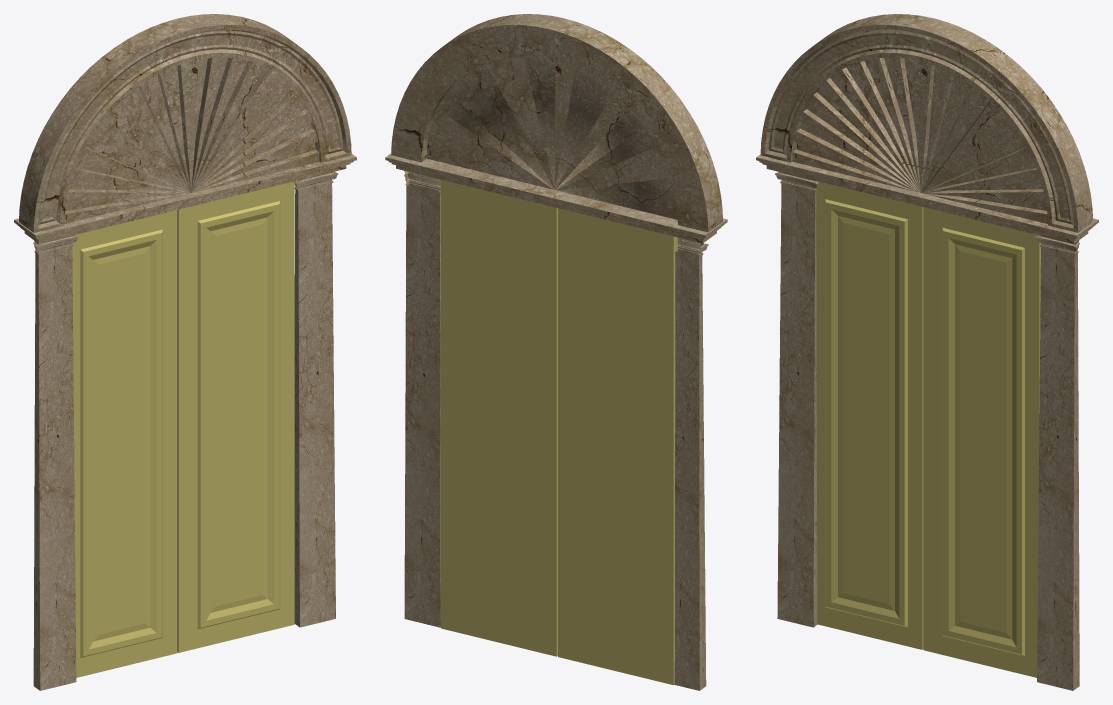
The model's file is entrance03.fbx.
3 views of the same model, side by side, from view 1: azimuth 30°, elevation 25°; view 2: azimuth 150°, elevation 25°; view 3: azimuth 330°, elevation 25° (orthographic).
Parts seen in each view (by area): view 1: gold_139, stone_column_882, gold_138, stone_column_880, stone_column_879, stone_column_881; view 2: gold_138, gold_139, stone_column_882, stone_column_879, stone_column_880, stone_column_881; view 3: gold_139, gold_138, stone_column_882, stone_column_879, stone_column_880, stone_column_881.
Part boxes in pixels (<box>): gold_139: <box>177,181,294,652</box>; stone_column_882: <box>19,14,351,232</box>; gold_138: <box>72,210,177,677</box>; stone_column_880: <box>33,235,78,690</box>; stone_column_879: <box>294,171,338,627</box>; stone_column_881: <box>14,154,356,243</box>; gold_138: <box>558,208,677,685</box>; gold_139: <box>441,179,557,656</box>; stone_column_882: <box>391,14,722,232</box>; stone_column_879: <box>404,170,440,627</box>; stone_column_880: <box>674,237,708,690</box>; stone_column_881: <box>385,153,727,243</box>; gold_139: <box>923,207,1040,677</box>; gold_138: <box>816,182,923,649</box>; stone_column_882: <box>760,14,1092,232</box>; stone_column_879: <box>1034,235,1079,690</box>; stone_column_880: <box>775,172,818,627</box>; stone_column_881: <box>756,154,1098,243</box>.
Bounding box in the file's own units: 65.93 × 124 × 7.79.
